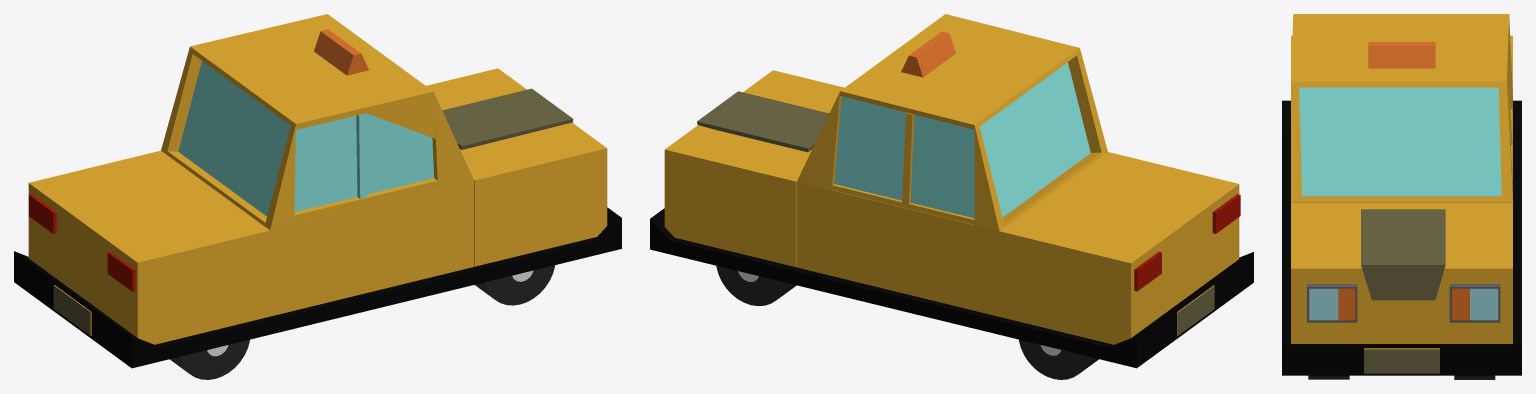
File: TaxiCarModel1.fbx
The picture shows the model from 3 angles, left to right: view 1: azimuth 30°, elevation 25°; view 2: azimuth 150°, elevation 25°; view 3: azimuth 270°, elevation 25°; orthographic projection. The views are drawn at different scales.
Parts seen in each view (by area): view 1: Carcase, Wheels, LightRear; view 2: Carcase, Wheels, LightRear; view 3: Carcase, LightsFront, Wheels.
Part boxes in pixels (x1,y1,x2,y2): Carcase: [14, 14, 621, 368]; Wheels: [170, 265, 555, 379]; LightRear: [28, 194, 135, 291]; Carcase: [650, 14, 1253, 368]; Wheels: [716, 266, 1098, 379]; LightRear: [1134, 194, 1240, 291]; Carcase: [1282, 14, 1521, 375]; LightsFront: [1307, 284, 1500, 322]; Wheels: [1308, 375, 1495, 379].
Bounding box in the file's own units: 522 × 264 × 216.
